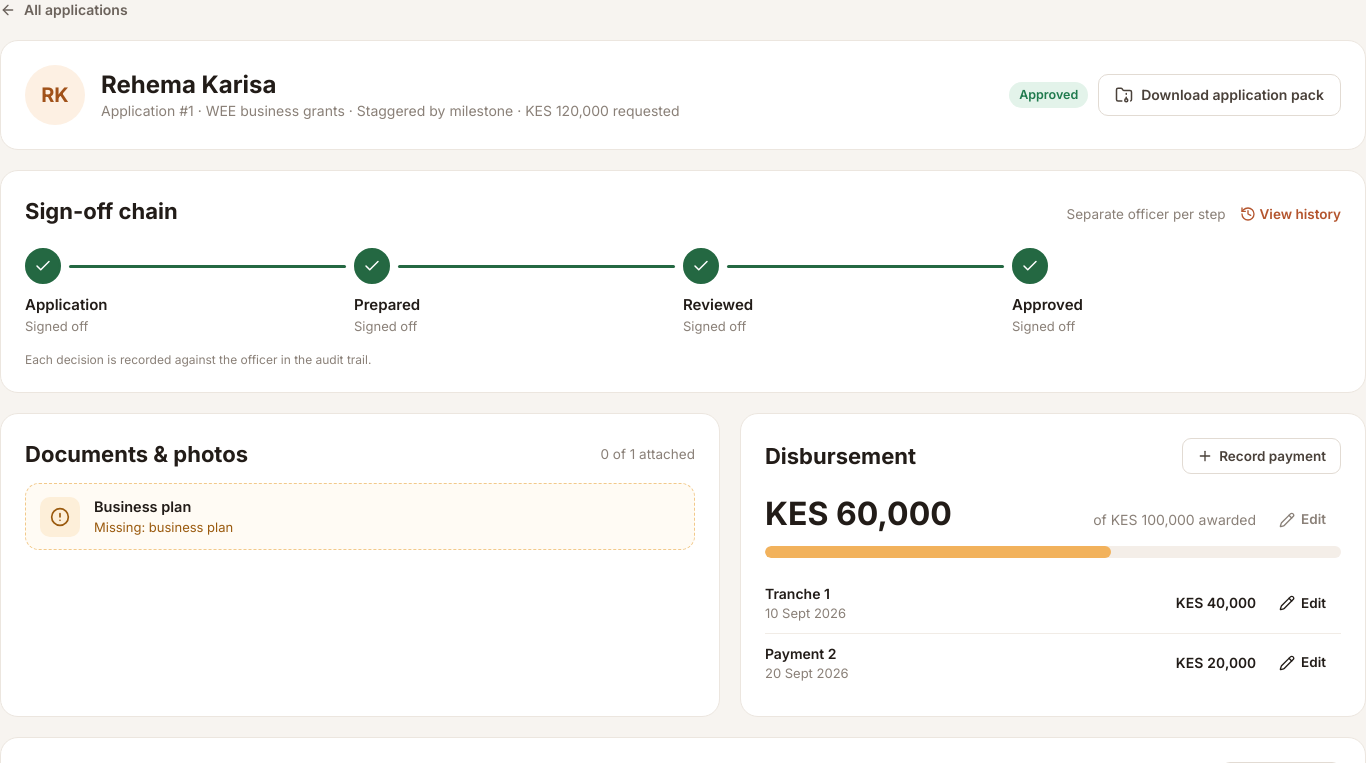
Scenario: grant detail › edits the awarded amount, with the limits explained, for an officer who may
The width and height of the screenshot is (1366, 763).
Expected: the button "Edit awarded amount" is not shown
Click the button with aria-label "Edit awarded amount" at (1303, 520), box [1264,502,1341,538]
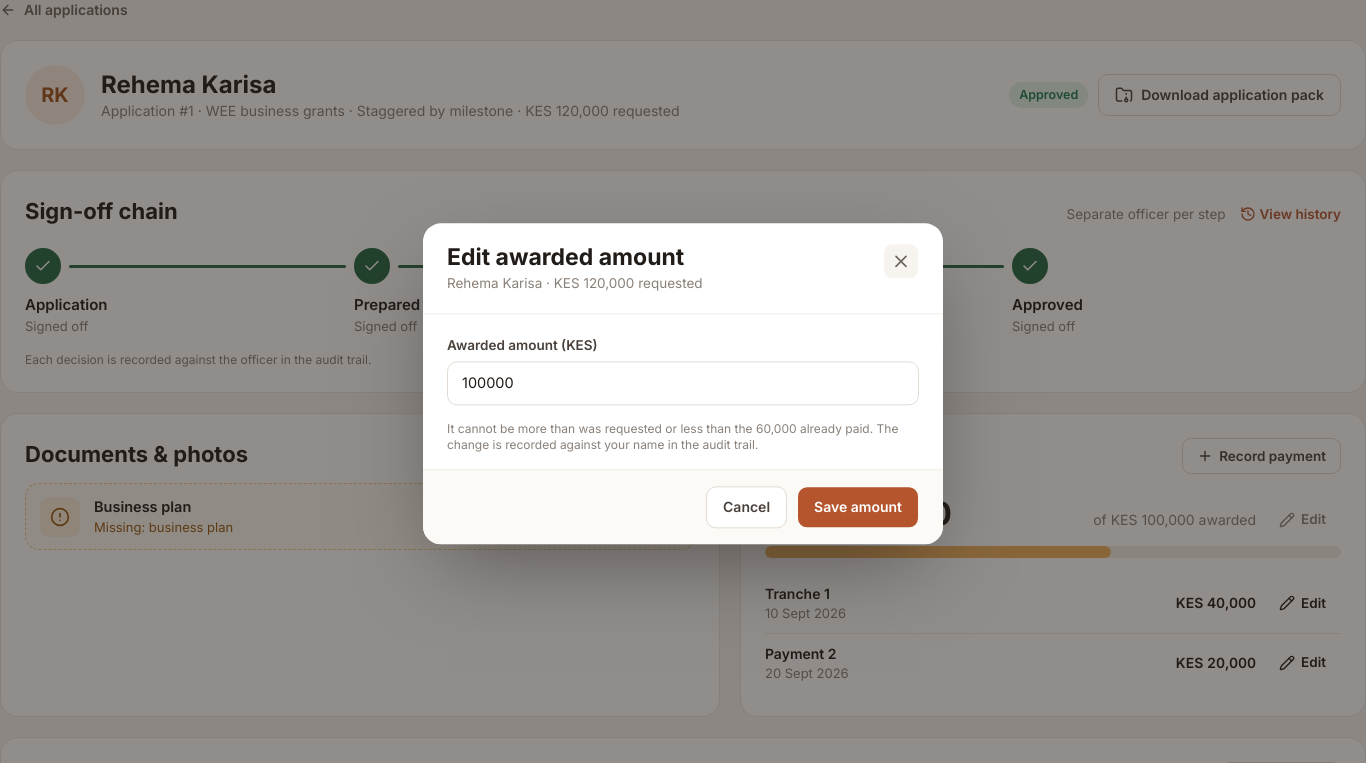
Expected: the number field labelled "Awarded amount (KES)" holds "100000"
Expected: the dialog "Edit awarded amount" shows "It cannot be more than was requested", [447,422,662,437]
Expected: the dialog "Edit awarded amount" shows "60,000 already paid", [662,422,870,437]
Replace the text in the number field labelled "Awarded amount (KES)" with "90000" at (683, 384), box [447,362,919,406]
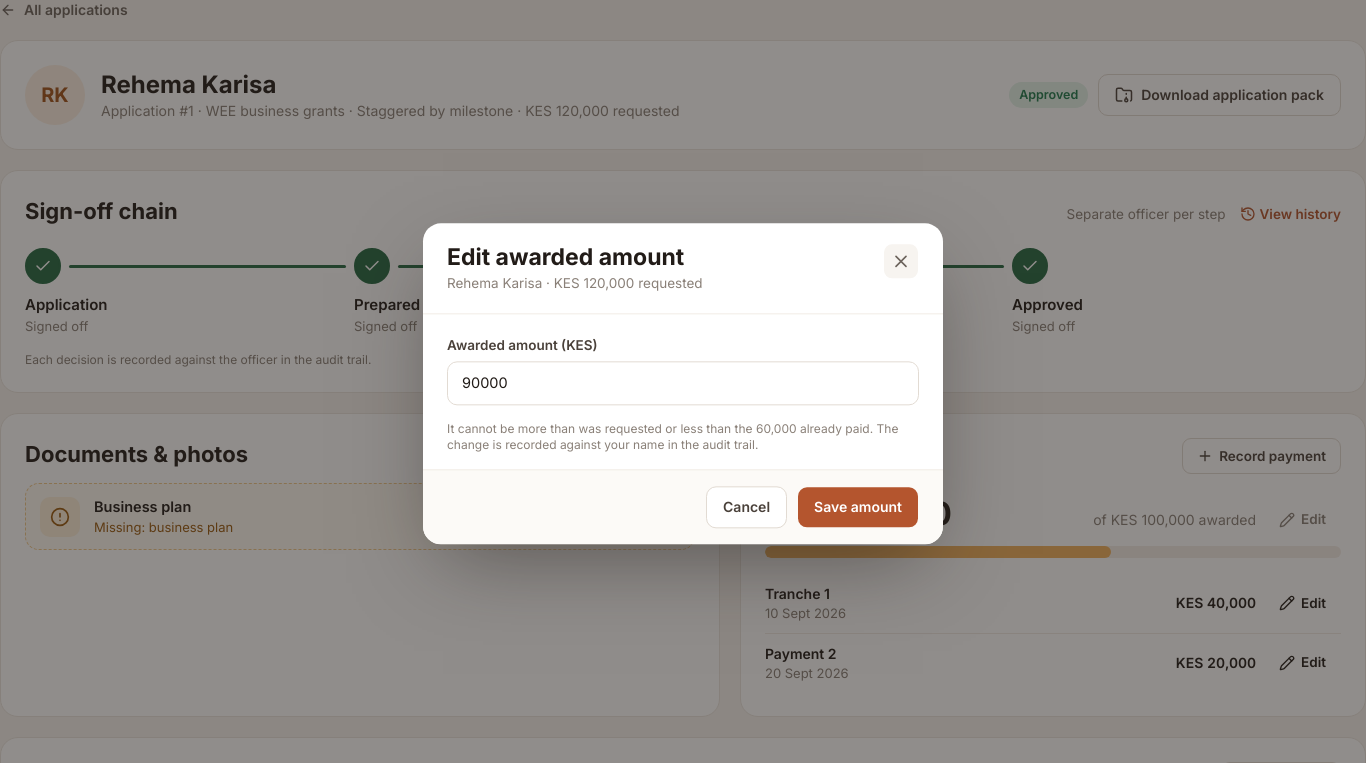
Click the button "Save amount" at (858, 508), box [797,487,919,529]
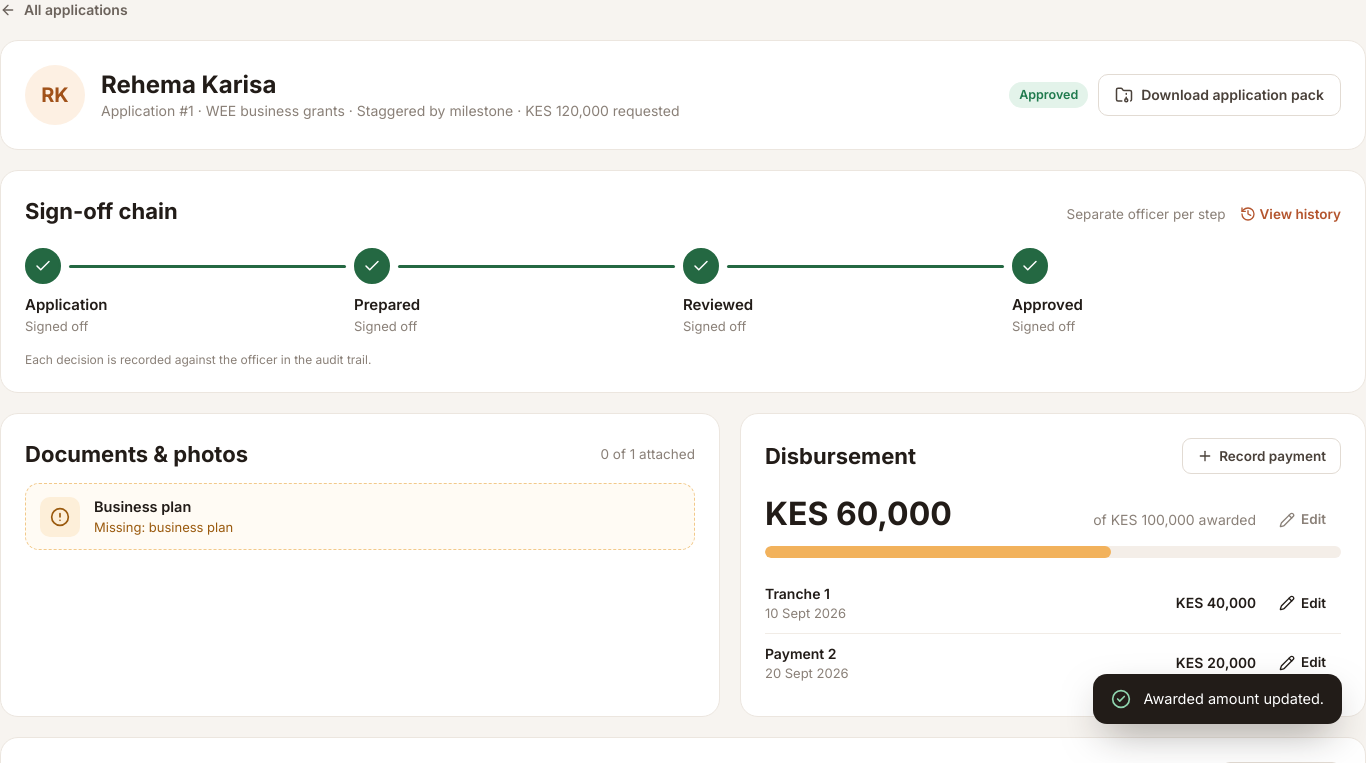
Expected: the text "Awarded amount updated." is shown, [1093,674,1342,724]
